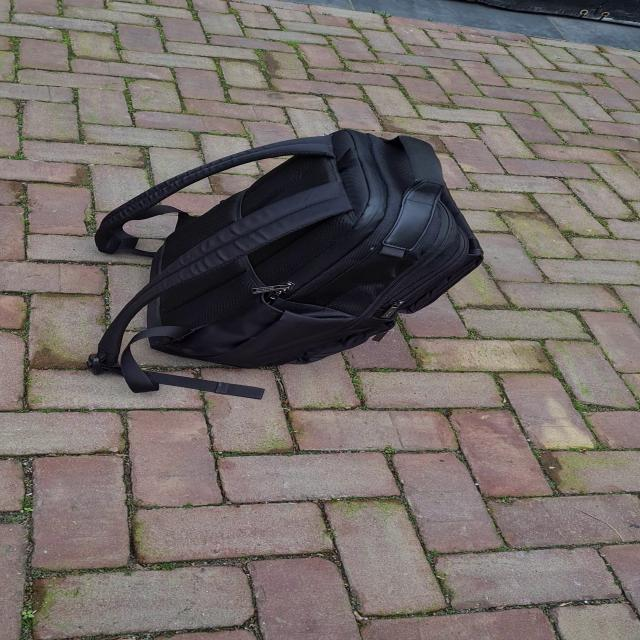backpack: (99, 125, 494, 398)
